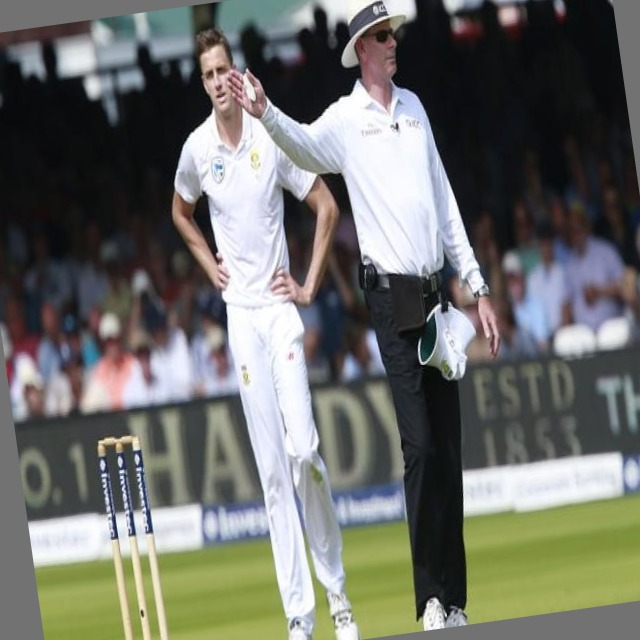No_Ball: (214, 0, 546, 640)
